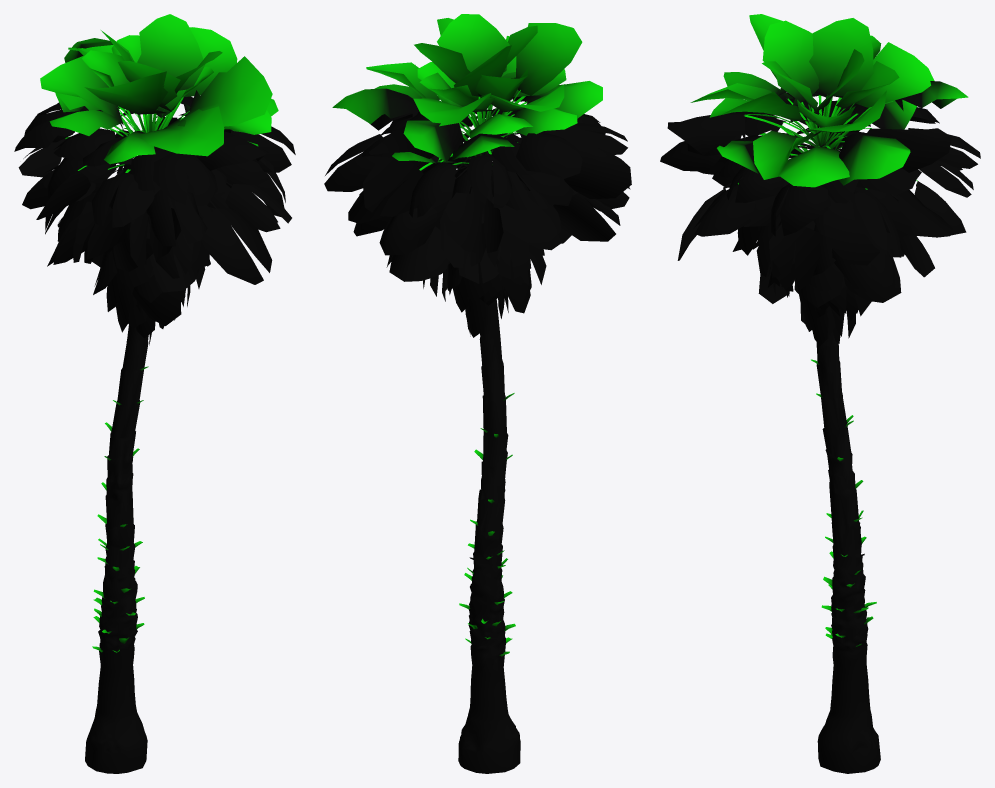
3 views of the same model, side by side, from view 1: azimuth 30°, elevation 25°; view 2: azimuth 150°, elevation 25°; view 3: azimuth 270°, elevation 25° (orthographic). The views are drawn at different scales.
Parts seen in each view (by area): view 1: SM_TR_CaliforniaPalm_22m_HD; view 2: SM_TR_CaliforniaPalm_22m_HD; view 3: SM_TR_CaliforniaPalm_22m_HD.
Boxes of the visible parts, <box> form: SM_TR_CaliforniaPalm_22m_HD: <box>14,14,295,773</box>; SM_TR_CaliforniaPalm_22m_HD: <box>324,14,631,773</box>; SM_TR_CaliforniaPalm_22m_HD: <box>660,14,980,773</box>.
Size of the model in its own units: 311 by 295 by 787.
